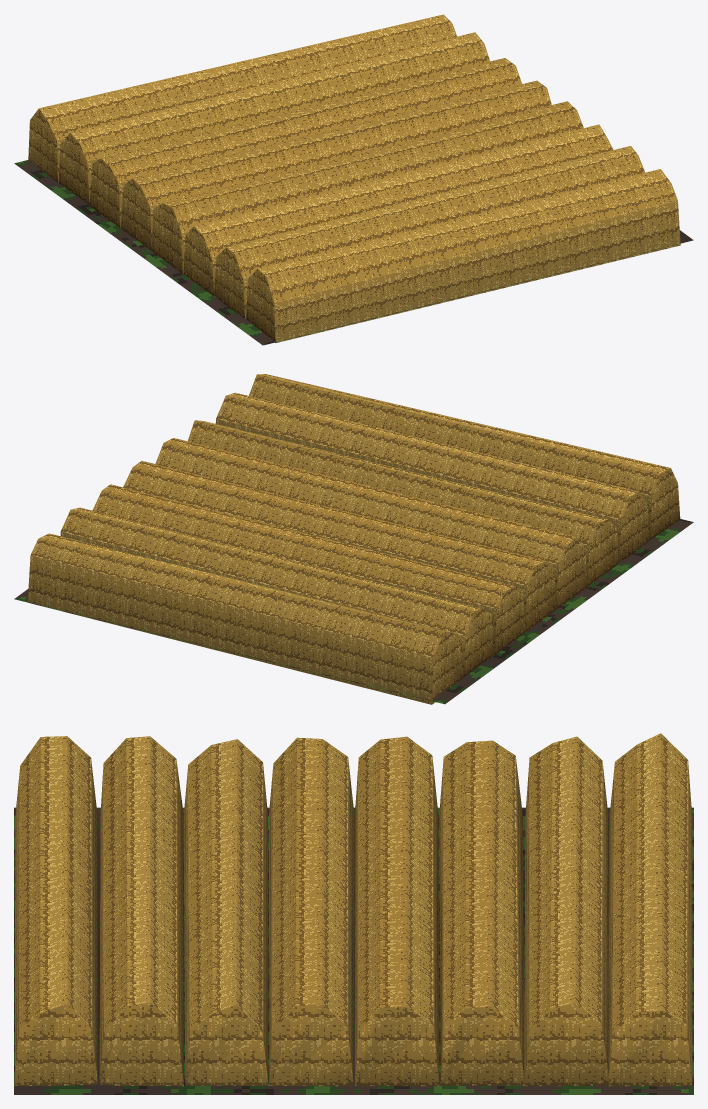
Rendered from mnat.field.glb.
3 renders of one model, top to bottom at view 1: azimuth 30°, elevation 25°; view 2: azimuth 150°, elevation 25°; view 3: azimuth 270°, elevation 25°, orthographic. The views are drawn at different scales.
Parts seen in each view (by area): view 1: kit_crop, kit_shell_soil; view 2: kit_crop, kit_shell_soil; view 3: kit_crop, kit_shell_soil.
Part boxes in pixels (<box>): kit_crop: <box>28,14,680,342</box>; kit_shell_soil: <box>14,160,693,345</box>; kit_crop: <box>27,374,680,704</box>; kit_shell_soil: <box>14,519,693,704</box>; kit_crop: <box>14,733,692,1086</box>; kit_shell_soil: <box>14,807,693,1094</box>.
Size of the model in its own units: 8 by 1.16 by 8.
2 materials, 2 textured.
